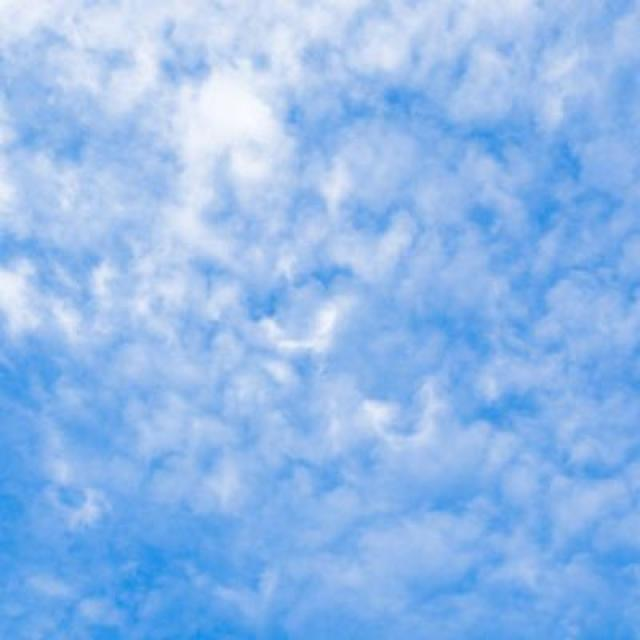Ac: (1, 17, 640, 464)
